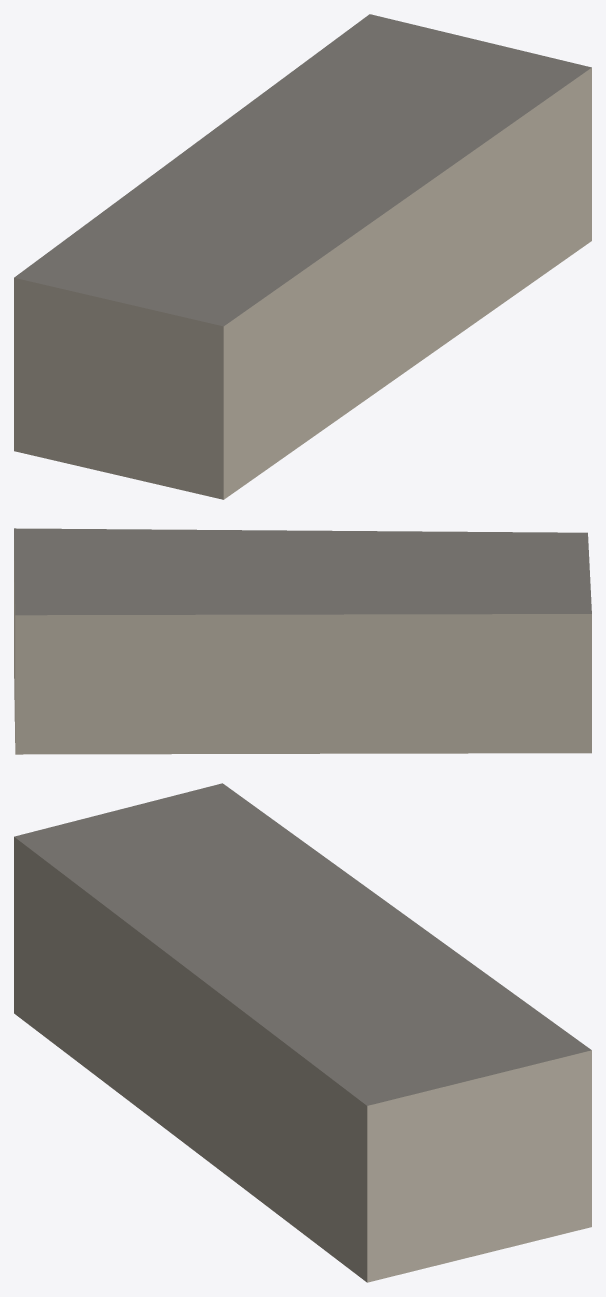
3 renders of one model, top to bottom at view 1: azimuth 30°, elevation 25°; view 2: azimuth 150°, elevation 25°; view 3: azimuth 270°, elevation 25°, orthographic. The views are drawn at different scales.
Parts seen in each view (by area): view 1: HP-w783664771; view 2: HP-w783664771; view 3: HP-w783664771.
Boxes of the visible parts, x1,y1,x2,y2 form: HP-w783664771: (14,14,591,499); HP-w783664771: (14,528,591,754); HP-w783664771: (14,783,591,1282).
Size of the model in its own units: 70.47 by 18 by 53.34.
